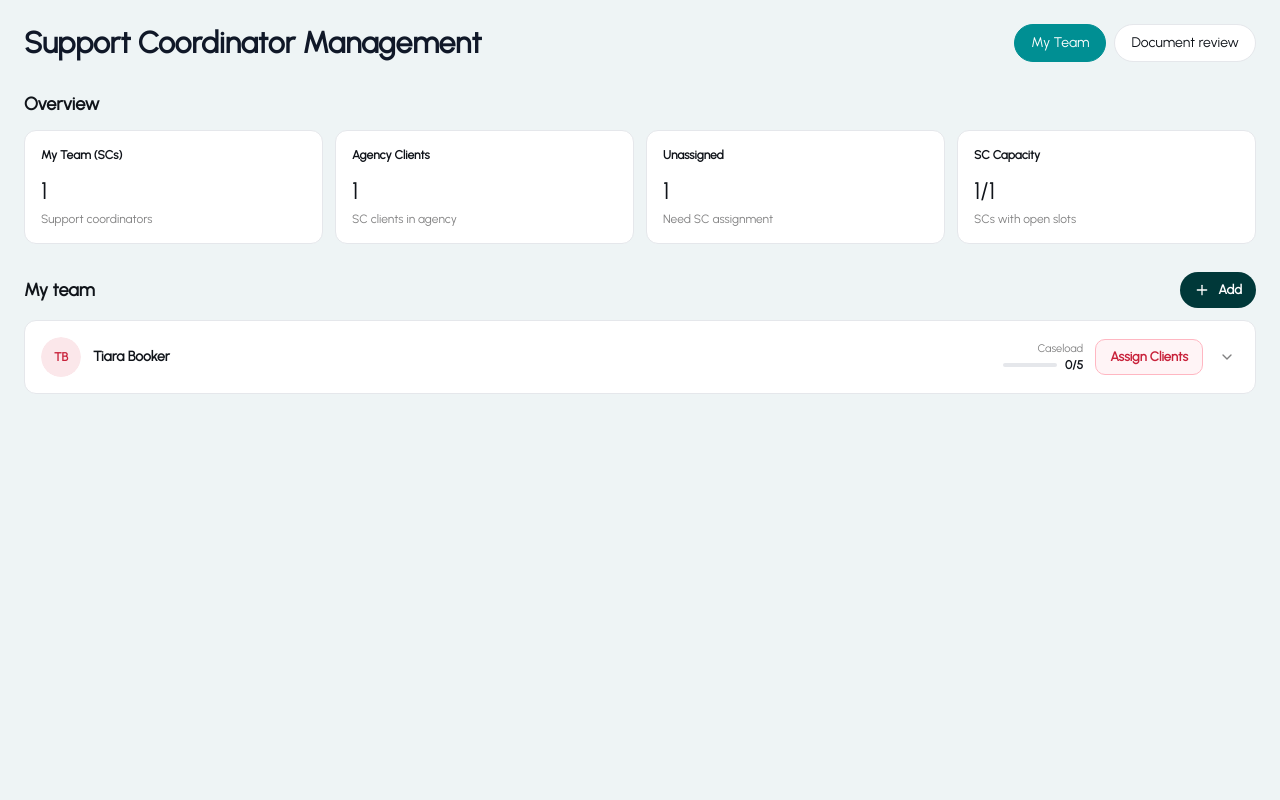
Test: SupportCoordinatorManagement › keeps assignment actions locked until counts refresh and shows one success toast
Later steps or results of the test are not shown.
Click the button "Assign Clients". click: click(1149, 357)
box: [1095,339,1203,375]
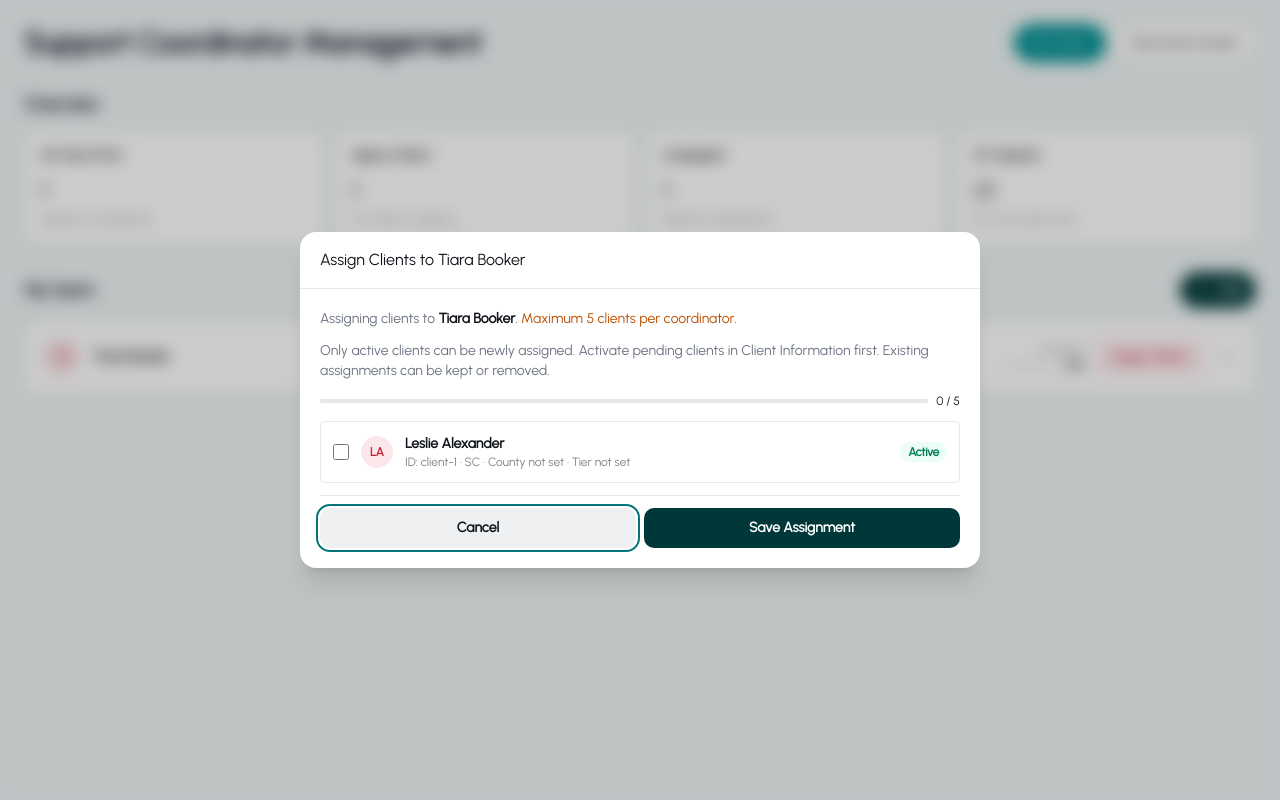
Click the checkbox named "Assign Leslie Alexander". click: click(341, 452)
box: [333,444,349,460]
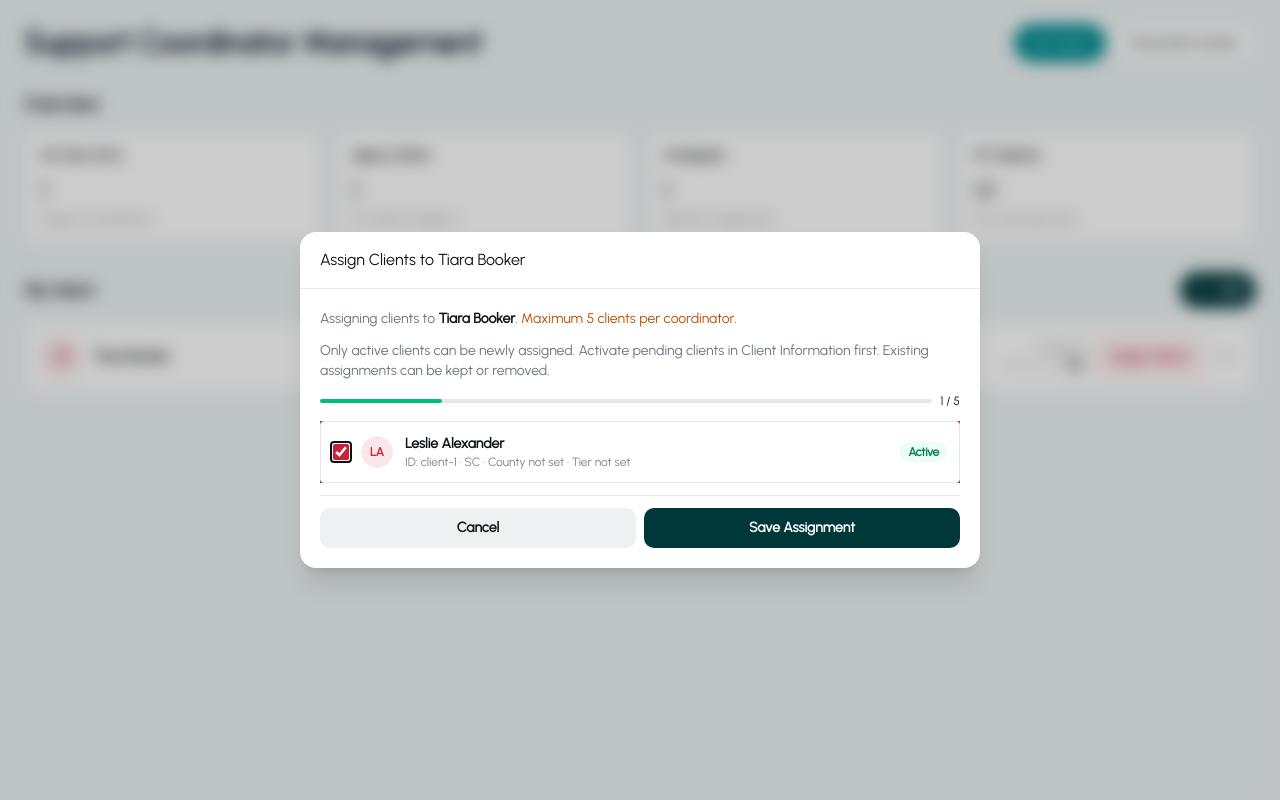
Click the button "Save Assignment". click: click(802, 528)
box: [644,508,960,548]
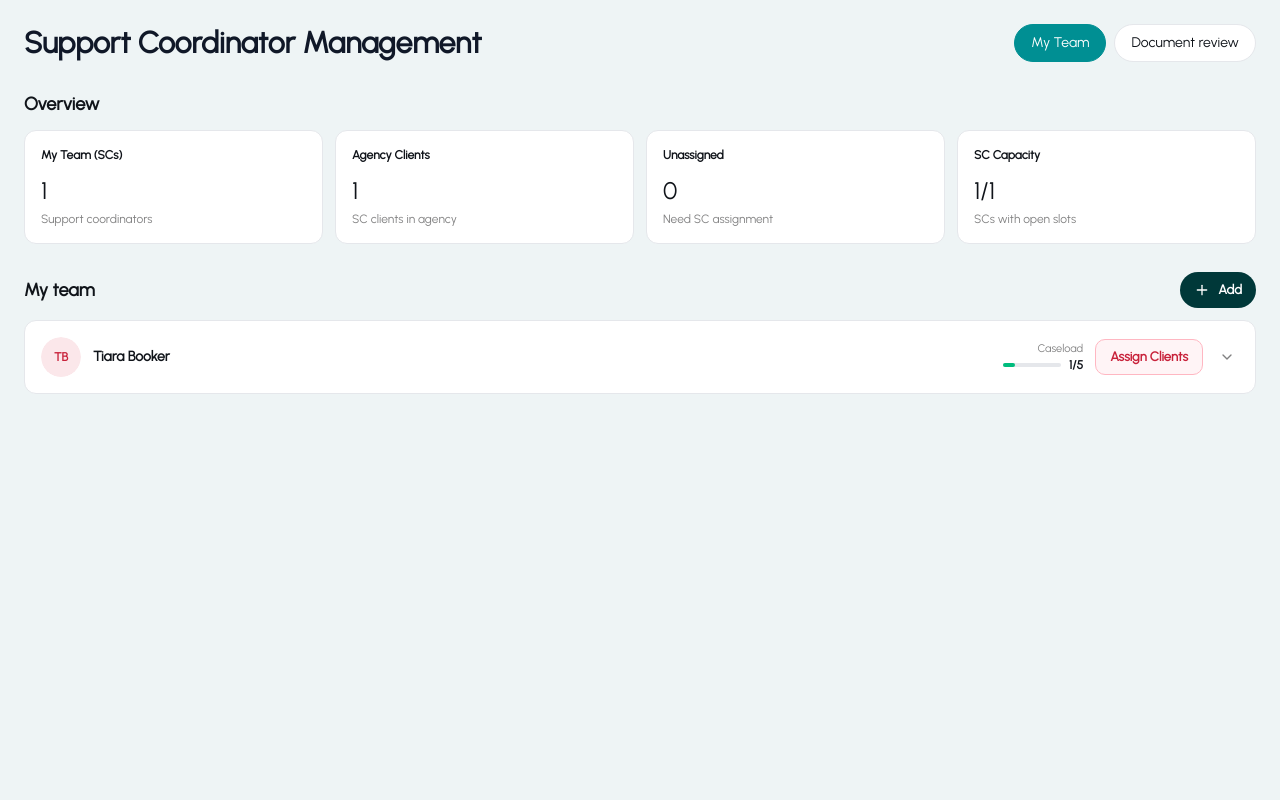
Expected: the button "Assign Clients" is enabled, [1095,339,1203,375]
Result: the heading "Assign Clients to Tiara Booker" is gone
